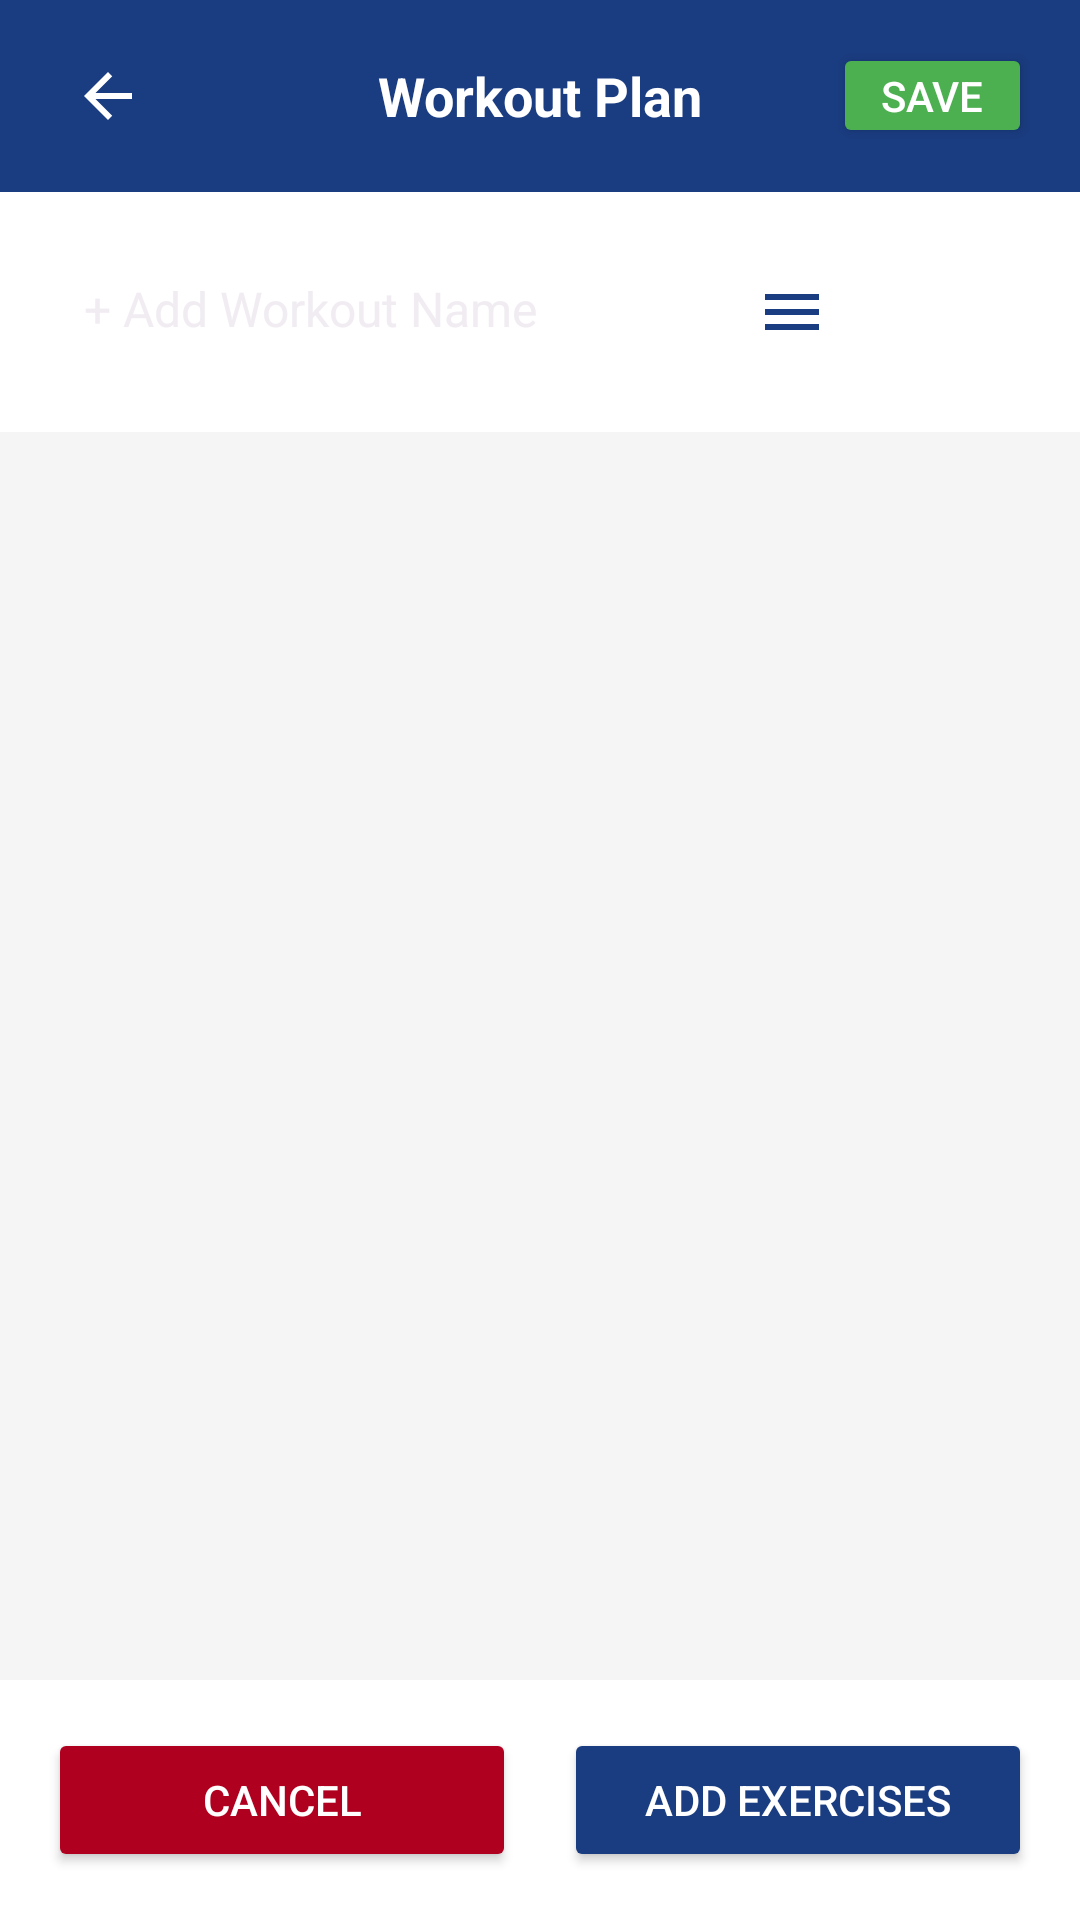

Icon click points for this 1080 x 1920 phone screenshot, format (x=x, y=y):
arrow back: (x=108, y=96)
menu: (x=792, y=312)
